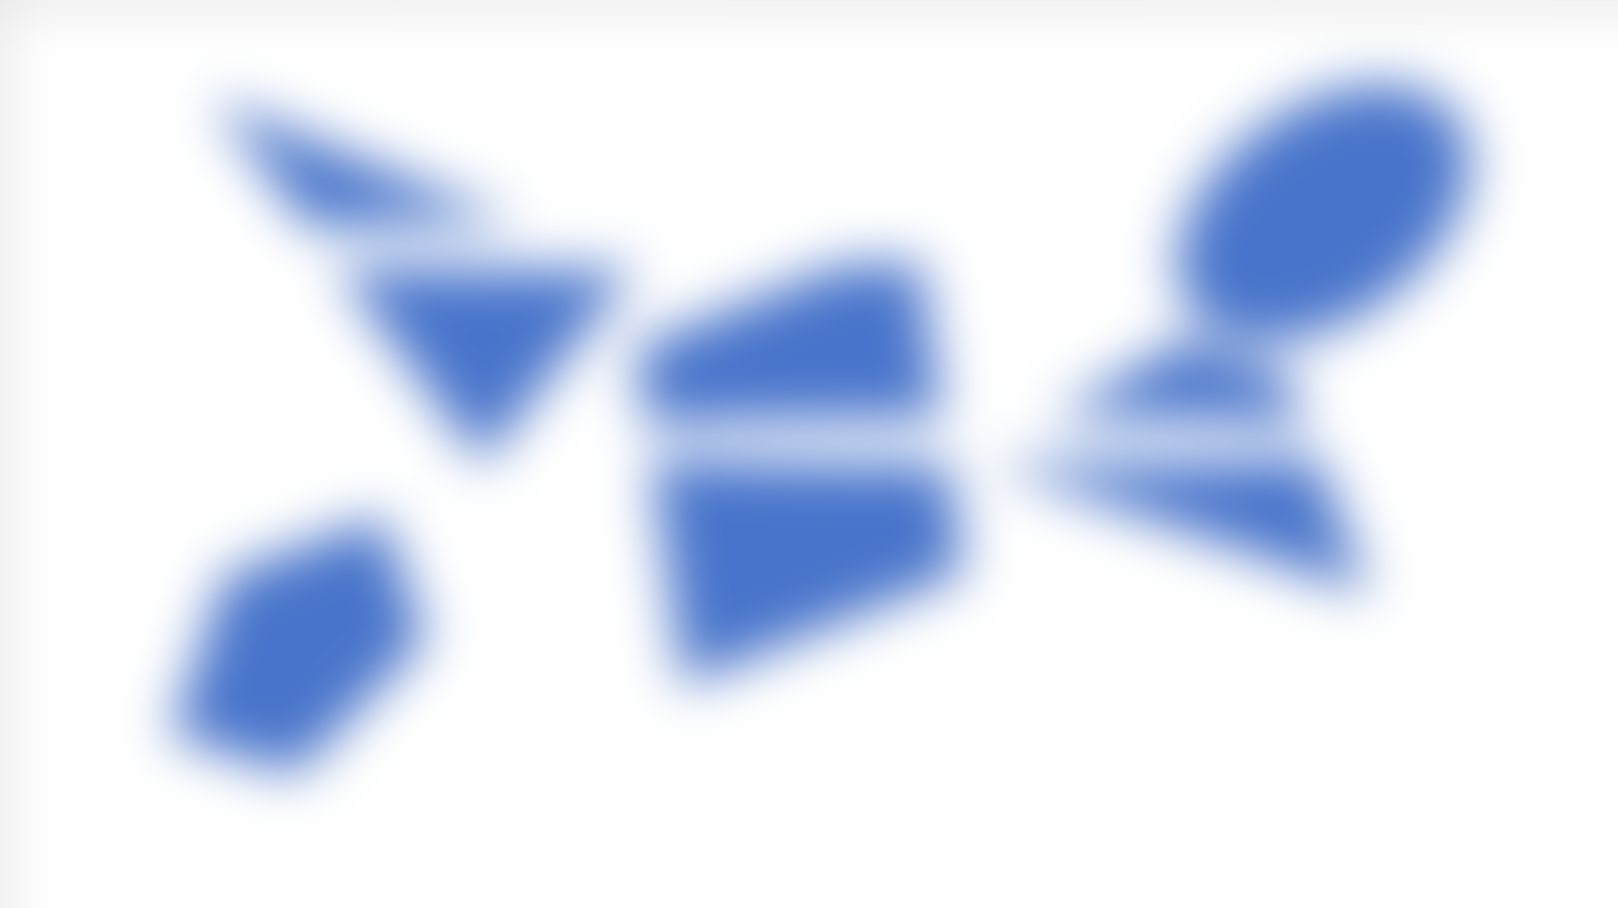circle: (1168, 60, 1494, 348)
parallelogram: (593, 223, 980, 698)
pentagon: (168, 511, 445, 816)
triangle: (190, 61, 652, 485), (1008, 330, 1439, 638)
